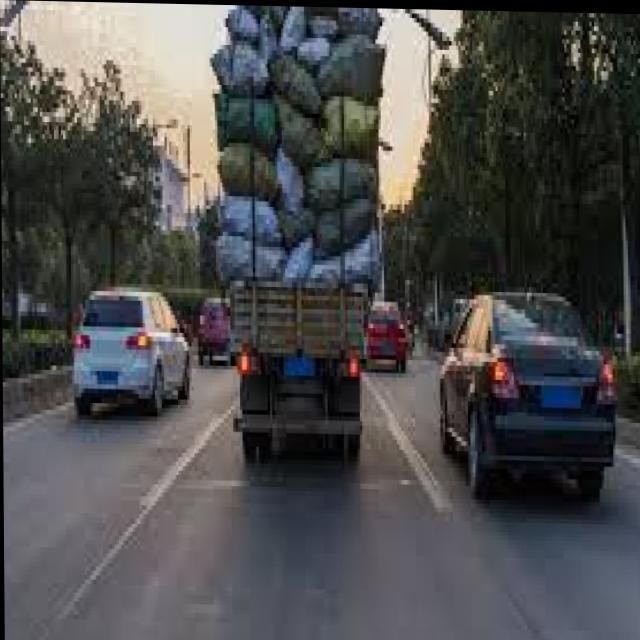uncovered: (214, 3, 385, 464)
